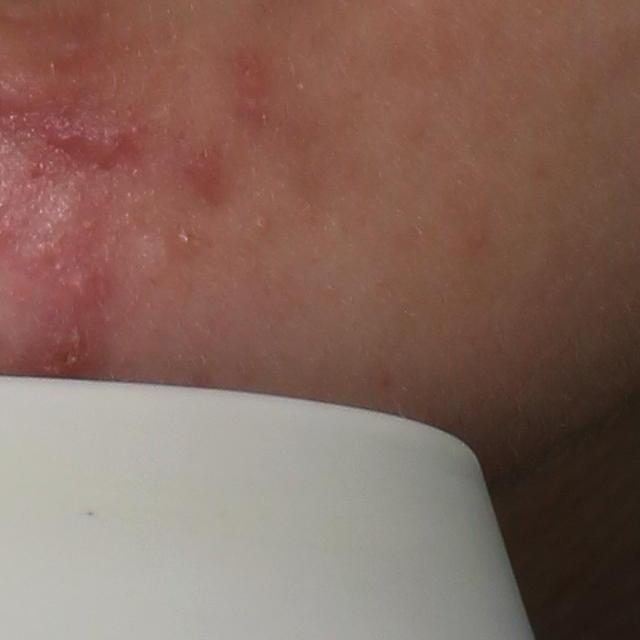papule: (32, 311, 102, 379), (59, 267, 109, 319), (91, 124, 128, 168)
